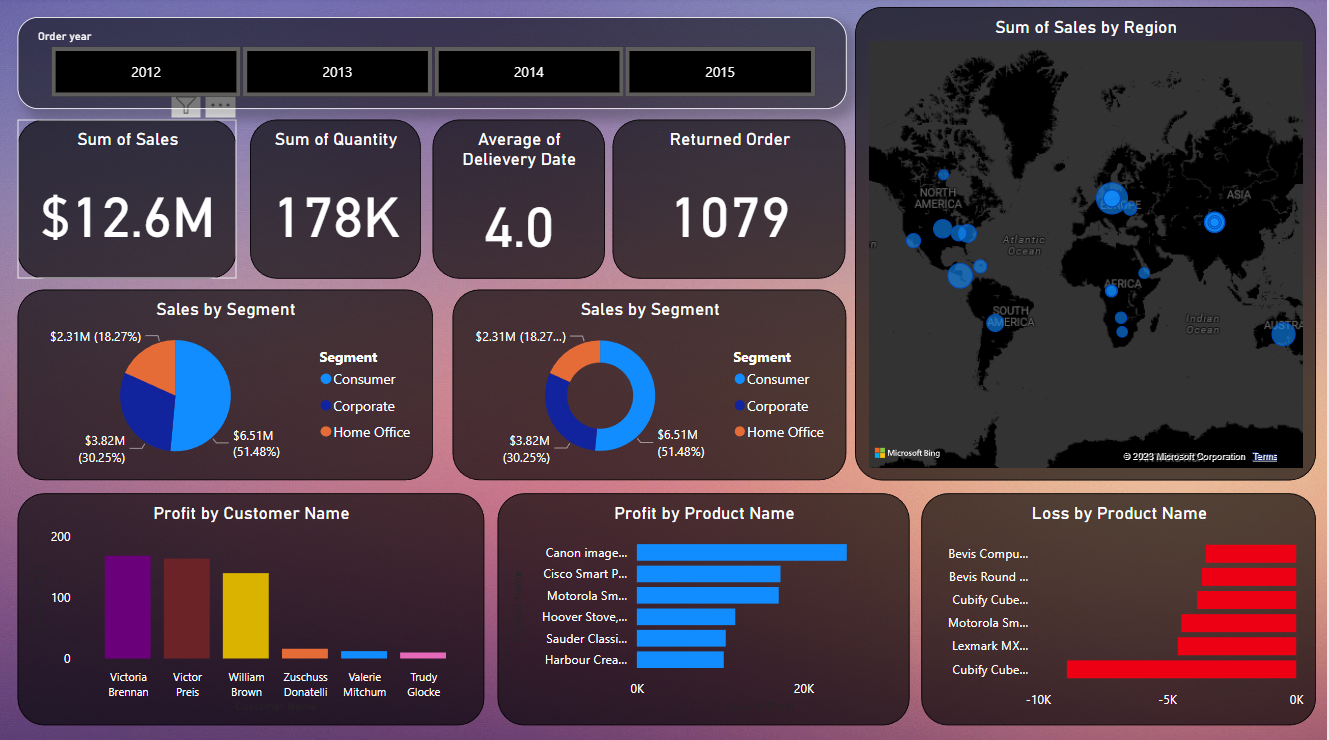

The dashboard page shown, as its layout file describes it:
{"tool":"powerbi","page":{"name":"Page 1","canvas":[1280,720],"ordinal":0},"visuals":[{"type":"card","title":"Sum of Sales","fields":{"Values":["Orders.Sales"]},"box":[16.5,118,211.3,153.7],"z":0},{"type":"card","title":"Sum of Quantity","fields":{"Values":["Orders.Quantity"]},"box":[241.5,118,164.7,153.7],"z":1000},{"type":"card","title":"Average of Delievery Date","fields":{"Values":["Orders.Delievery Day"]},"box":[417.2,118,166,153.7],"z":2000},{"type":"card","title":"Returned Order","fields":{"Values":["Returns.Returned order"]},"box":[591.4,118,225,153.7],"z":3000},{"type":"map","fields":{"Category":["Orders.Region"],"Size":["Orders.Sales"]},"box":[824.7,9.6,444.6,456.9],"z":4000},{"type":"slicer","fields":{"Values":["Orders.Order year"]},"box":[16.5,19.2,800,89.2],"z":5000},{"type":"clusteredBarChart","title":"Profit by Product Name","fields":{"Category":["Orders.Product Name"],"Y":["Orders.Profit"]},"box":[480.3,478.9,397.9,223.7],"z":6000},{"type":"clusteredBarChart","title":"Loss by Product Name","fields":{"Category":["Orders.Product Name"],"Y":["Orders.Profit"]},"box":[900.2,480.3,380.1,223.7],"z":7000},{"type":"pieChart","title":" Sales by Segment","fields":{"Y":["Orders.Sales"],"Category":["Orders.Segment"]},"box":[16.5,282.7,400.7,183.9],"z":8000},{"type":"donutChart","title":" Sales by Segment","fields":{"Y":["Orders.Sales"],"Category":["Orders.Segment"]},"box":[436.4,282.7,380.1,183.9],"z":8001},{"type":"clusteredColumnChart","title":"Profit by Customer Name","fields":{"Category":["Orders.Customer Name"],"Y":["Orders.Profit"]},"box":[16.5,478.9,450.1,223.7],"z":8002}]}

Visuals, with their boxes in screenshot pixels (x1, y1, x2, y2), scaled from the page's 1280x720 canvas onto the 1329x740 screenshot:
"Sum of Sales" card: 17,121,237,279
"Sum of Quantity" card: 251,121,422,279
"Average of Delievery Date" card: 433,121,606,279
"Returned Order" card: 614,121,848,279
map - Orders.Region x Orders.Sales: 856,10,1318,479
slicer - Orders.Order year: 17,20,848,111
"Profit by Product Name" clusteredBarChart: 499,492,912,722
"Loss by Product Name" clusteredBarChart: 935,494,1328,724
" Sales by Segment" pieChart: 17,291,433,480
" Sales by Segment" donutChart: 453,291,848,480
"Profit by Customer Name" clusteredColumnChart: 17,492,484,722
